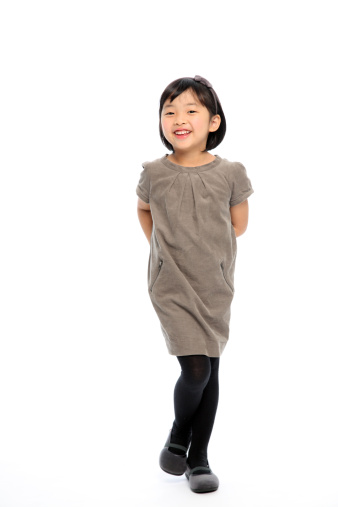em pe: (102, 72, 259, 491)
